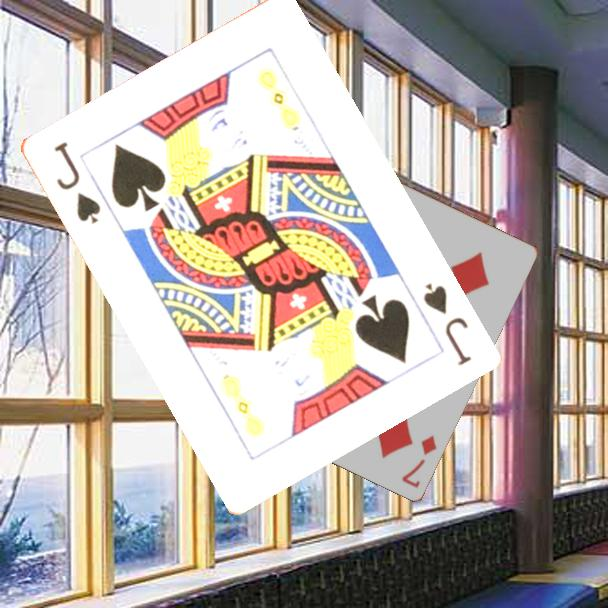d07: (398, 431, 439, 490)
s11: (418, 279, 474, 369), (49, 138, 103, 227)
